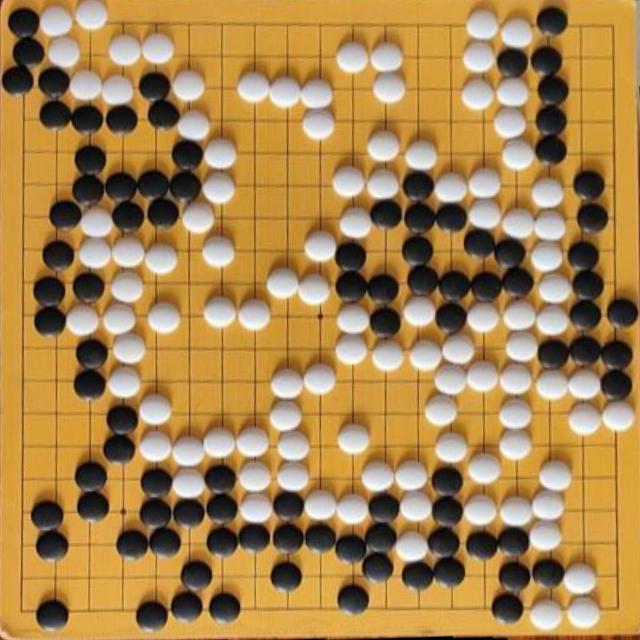blackstone: (73, 369, 107, 401), (336, 270, 368, 303), (438, 270, 471, 302), (112, 200, 145, 232), (168, 171, 201, 203), (569, 299, 602, 331), (72, 174, 105, 206), (140, 468, 173, 500), (600, 368, 632, 401), (34, 306, 67, 338), (77, 491, 110, 523), (74, 144, 107, 176), (149, 527, 182, 559), (600, 340, 633, 372), (13, 36, 46, 68), (36, 600, 70, 631), (148, 196, 180, 228), (76, 338, 108, 370), (408, 264, 440, 296), (43, 240, 75, 272), (570, 335, 602, 367), (34, 276, 66, 308), (207, 526, 239, 558), (38, 66, 70, 98), (180, 560, 212, 592), (2, 65, 34, 97), (492, 592, 524, 624), (106, 405, 139, 436), (535, 134, 568, 165), (404, 202, 436, 233), (73, 272, 104, 304), (470, 272, 502, 303), (502, 266, 534, 297), (538, 339, 569, 371), (49, 200, 81, 231), (568, 241, 600, 272), (140, 499, 172, 530), (497, 528, 529, 559), (362, 553, 394, 584), (498, 561, 530, 592), (40, 100, 72, 131), (533, 559, 565, 590), (434, 556, 465, 588), (271, 561, 303, 592), (32, 501, 64, 532), (36, 530, 68, 561), (531, 46, 563, 77), (207, 494, 240, 524), (147, 99, 180, 129), (75, 462, 108, 492), (71, 104, 104, 134), (364, 523, 397, 553), (436, 302, 467, 333), (335, 242, 366, 273), (338, 585, 369, 616), (369, 308, 401, 338), (371, 200, 403, 230), (402, 236, 434, 266), (464, 229, 496, 259), (367, 274, 399, 304), (436, 202, 468, 232), (572, 270, 604, 300), (172, 140, 204, 170), (105, 172, 137, 202), (432, 466, 464, 496), (138, 170, 170, 200), (205, 464, 237, 494), (174, 499, 206, 529), (428, 527, 460, 557), (335, 534, 367, 564), (537, 74, 569, 104), (238, 524, 270, 554), (402, 562, 434, 592), (116, 530, 148, 560), (172, 592, 202, 624), (8, 8, 40, 38), (495, 239, 526, 269), (273, 491, 304, 521), (536, 105, 567, 135), (273, 523, 304, 553), (574, 170, 605, 200), (104, 434, 136, 463), (368, 493, 400, 522), (106, 105, 138, 134), (431, 496, 463, 525), (466, 530, 498, 559), (578, 203, 608, 233), (403, 171, 434, 200), (497, 48, 528, 77), (607, 299, 638, 328), (537, 6, 568, 35), (210, 594, 240, 623), (305, 524, 336, 552), (137, 602, 168, 630), (140, 72, 170, 100)
whitestone: (424, 394, 458, 428), (266, 267, 300, 300), (366, 130, 400, 163), (139, 431, 173, 464), (362, 460, 396, 493), (277, 429, 311, 462), (203, 172, 236, 206), (145, 242, 178, 276), (533, 210, 567, 243), (531, 239, 565, 272), (202, 235, 236, 268), (461, 78, 494, 112), (502, 137, 536, 170), (568, 404, 602, 437), (108, 34, 142, 67), (269, 399, 302, 432), (339, 207, 372, 240), (173, 434, 206, 467), (442, 334, 475, 367), (404, 139, 437, 172), (205, 138, 238, 171), (298, 271, 331, 304), (532, 177, 565, 210), (568, 368, 601, 401), (434, 364, 467, 397), (237, 71, 270, 104), (373, 72, 406, 105), (173, 69, 206, 102), (48, 36, 81, 69), (138, 393, 172, 425), (435, 432, 469, 464), (108, 366, 142, 398), (467, 452, 501, 484), (394, 459, 428, 491), (147, 302, 181, 334), (468, 199, 502, 231), (112, 334, 146, 366), (334, 334, 368, 366), (238, 462, 272, 494), (494, 106, 528, 138), (172, 466, 206, 498), (78, 238, 112, 270), (505, 332, 539, 364), (276, 460, 310, 492), (462, 42, 496, 74), (302, 109, 336, 141), (240, 493, 274, 525), (504, 299, 538, 331), (562, 562, 596, 594), (538, 273, 572, 305), (466, 8, 500, 40), (567, 598, 601, 630), (304, 230, 337, 262), (332, 165, 364, 198), (104, 302, 137, 334), (204, 428, 237, 460), (111, 270, 143, 303), (367, 168, 400, 200), (469, 166, 502, 198), (204, 296, 237, 328), (182, 200, 215, 232), (112, 236, 145, 268), (539, 460, 572, 492), (502, 207, 535, 239), (499, 398, 532, 430), (66, 304, 99, 336), (372, 339, 404, 372), (467, 301, 500, 333), (238, 299, 271, 331), (536, 369, 569, 401), (101, 74, 134, 106), (400, 491, 433, 523), (464, 494, 497, 526), (304, 490, 337, 522), (537, 303, 570, 335), (336, 493, 369, 525), (142, 32, 175, 64), (500, 16, 533, 48), (40, 5, 73, 37), (495, 77, 529, 108), (396, 529, 430, 560), (304, 364, 336, 396), (238, 425, 270, 457), (338, 423, 370, 455), (436, 172, 468, 204), (410, 340, 442, 372), (178, 110, 210, 142), (500, 363, 532, 395), (70, 70, 102, 102), (336, 41, 368, 73), (602, 400, 634, 432), (530, 598, 562, 630), (337, 304, 370, 335), (80, 208, 113, 239), (403, 296, 436, 327), (269, 76, 302, 107), (532, 491, 565, 522), (500, 496, 533, 527), (466, 360, 498, 391), (301, 78, 334, 108), (499, 430, 532, 460), (75, 1, 109, 30), (271, 369, 303, 399), (371, 42, 403, 72), (530, 520, 562, 550)
